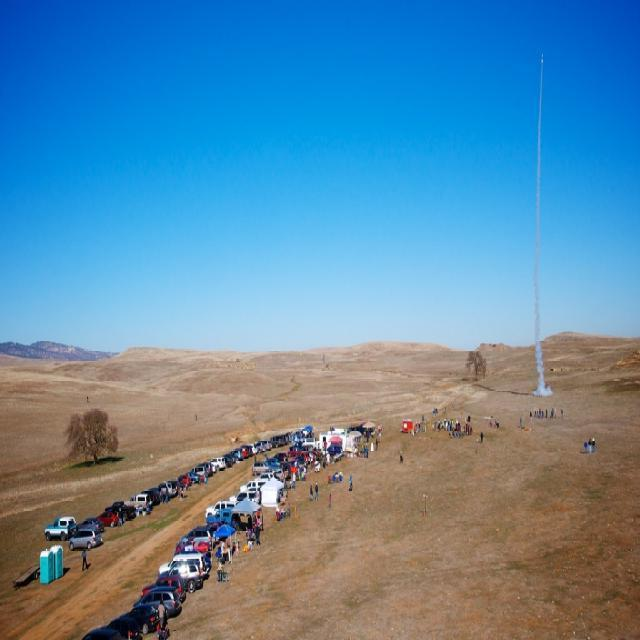Missile: (538, 48, 545, 68)
